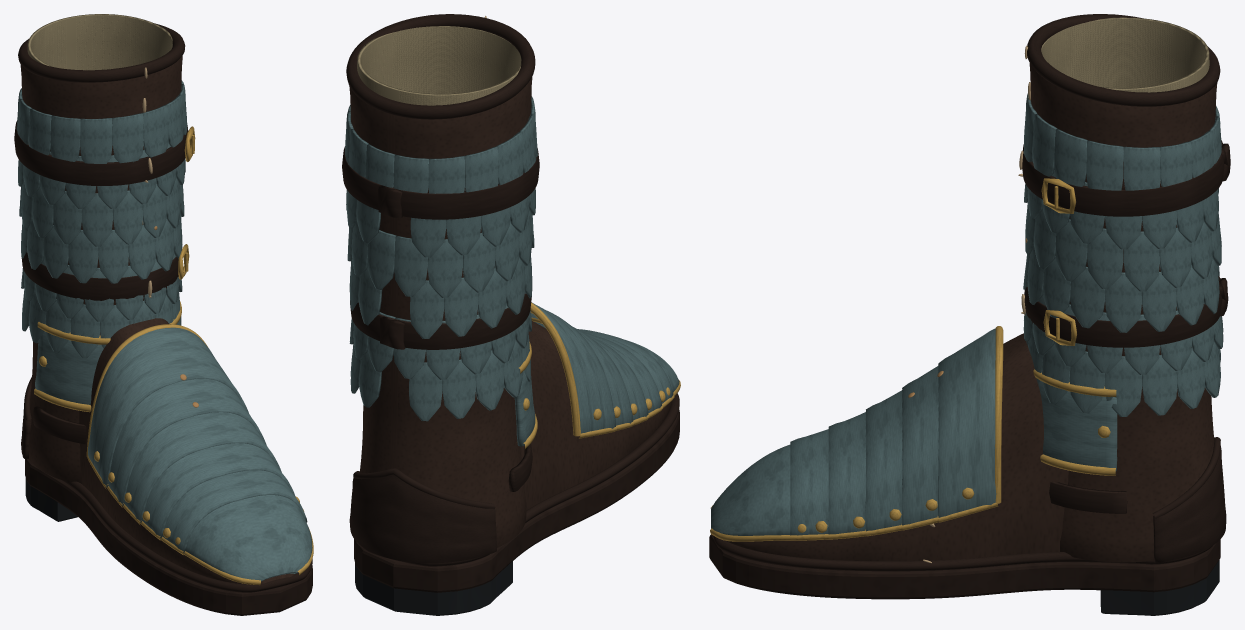
3 renders of one model, left to right at view 1: azimuth 30°, elevation 25°; view 2: azimuth 150°, elevation 25°; view 3: azimuth 270°, elevation 25°, orthographic. The views are drawn at different scales.
Parts seen in each view (by area): view 1: blued scale plate, oiled strap leather, tanned leather, quilted linen lining, gilded alloy, recess and lining; view 2: blued scale plate, oiled strap leather, tanned leather, quilted linen lining, recess and lining, gilded alloy; view 3: blued scale plate, tanned leather, oiled strap leather, quilted linen lining, gilded alloy, recess and lining.
Part boxes in pixels (box(x1,y1,x2,y2)): blued scale plate: box(16, 80, 312, 581); oiled strap leather: box(14, 23, 312, 615); tanned leather: box(20, 55, 294, 583); quilted linen lining: box(27, 14, 172, 70); gilded alloy: box(34, 126, 313, 585); recess and lining: box(25, 478, 77, 521); blued scale plate: box(345, 96, 679, 446); oiled strap leather: box(342, 14, 679, 592); tanned leather: box(349, 77, 671, 547); quilted linen lining: box(357, 26, 521, 105); recess and lining: box(355, 561, 512, 615); gilded alloy: box(516, 302, 680, 448); blued scale plate: box(711, 93, 1223, 535); tanned leather: box(727, 63, 1217, 562); oiled strap leather: box(709, 14, 1230, 599); quilted linen lining: box(1041, 17, 1209, 92); gilded alloy: box(710, 178, 1116, 541); recess and lining: box(1100, 560, 1219, 615).
Size of the model in its own units: 0.109 by 0.3199 by 0.2795.
Materials: 8 (5 with a texture image).
